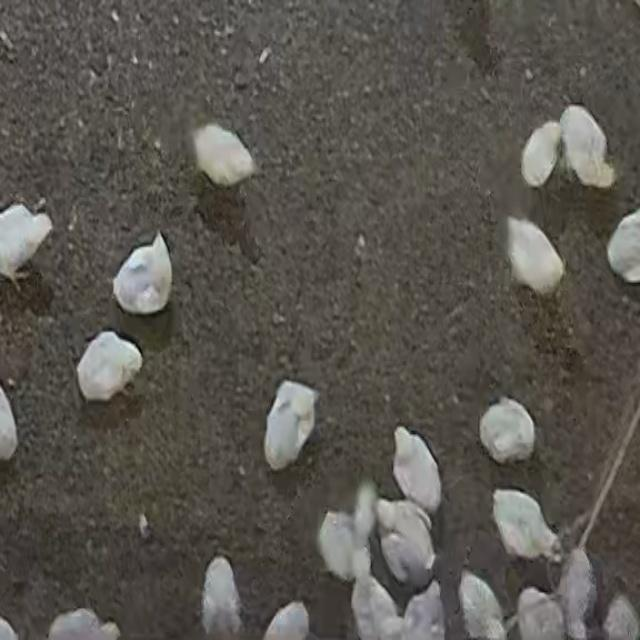chicken: (258, 381, 322, 469), (494, 220, 567, 295), (75, 327, 143, 407), (376, 498, 436, 588), (186, 119, 261, 190), (491, 488, 561, 563), (113, 232, 174, 316), (559, 104, 614, 187), (391, 426, 443, 513), (555, 545, 599, 640), (2, 205, 49, 291), (350, 568, 405, 640), (478, 397, 534, 465), (201, 556, 244, 636), (316, 508, 362, 582), (458, 570, 505, 640), (399, 576, 448, 640), (520, 122, 562, 188), (516, 586, 566, 640), (607, 204, 640, 282), (46, 608, 120, 640), (261, 602, 310, 640), (602, 593, 640, 640)
